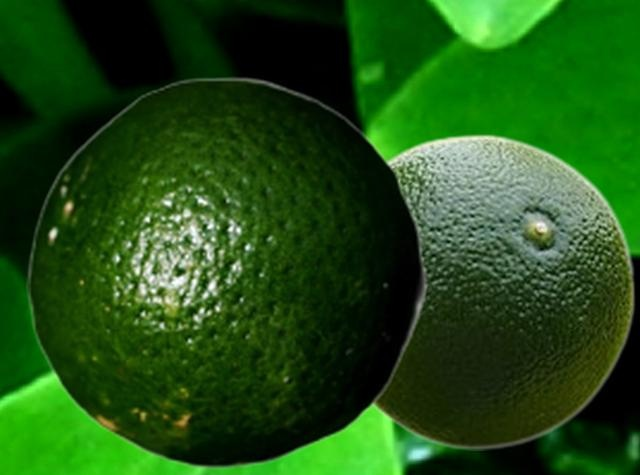calamansi: (26, 76, 427, 468), (372, 133, 636, 449)
